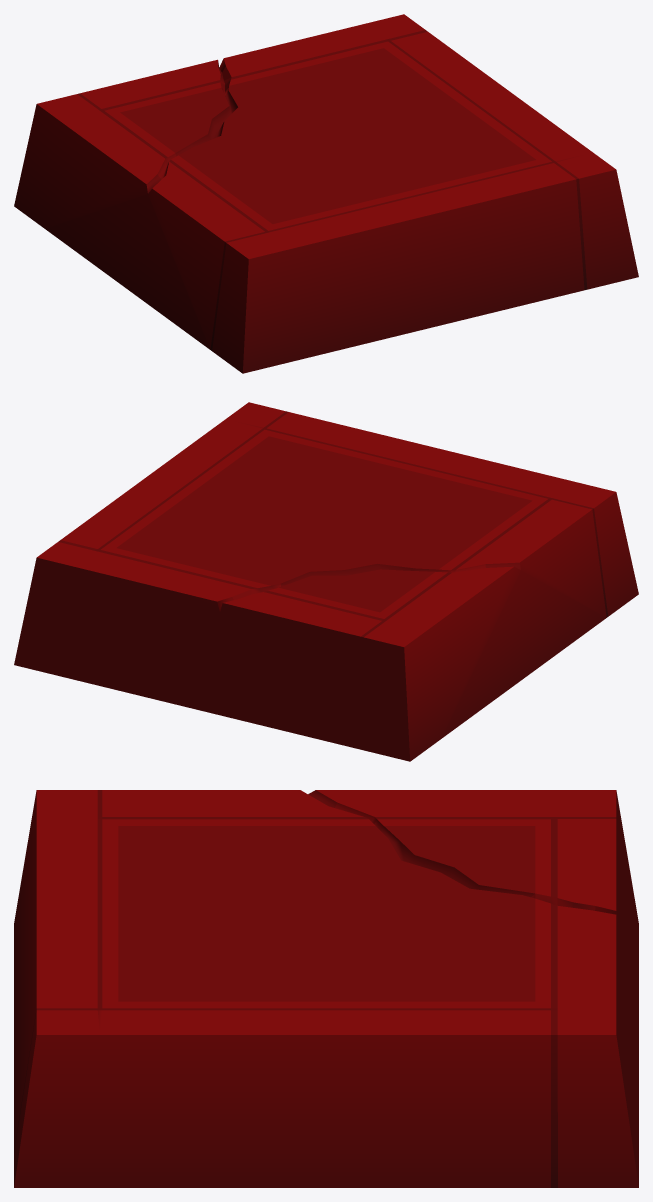
File: geology-landforms-citysidewalktile_v2.fbx
3 renders of one model, top to bottom at view 1: azimuth 30°, elevation 25°; view 2: azimuth 150°, elevation 25°; view 3: azimuth 270°, elevation 25°, orthographic. The views are drawn at different scales.
Parts seen in each view (by area): view 1: CitySidewalkTile_v2; view 2: CitySidewalkTile_v2; view 3: CitySidewalkTile_v2.
Part boxes in pixels (<box>): CitySidewalkTile_v2: <box>14,14,638,373</box>; CitySidewalkTile_v2: <box>14,402,638,761</box>; CitySidewalkTile_v2: <box>14,790,638,1187</box>.
Size of the model in its own units: 9.08 by 2.67 by 9.08.
